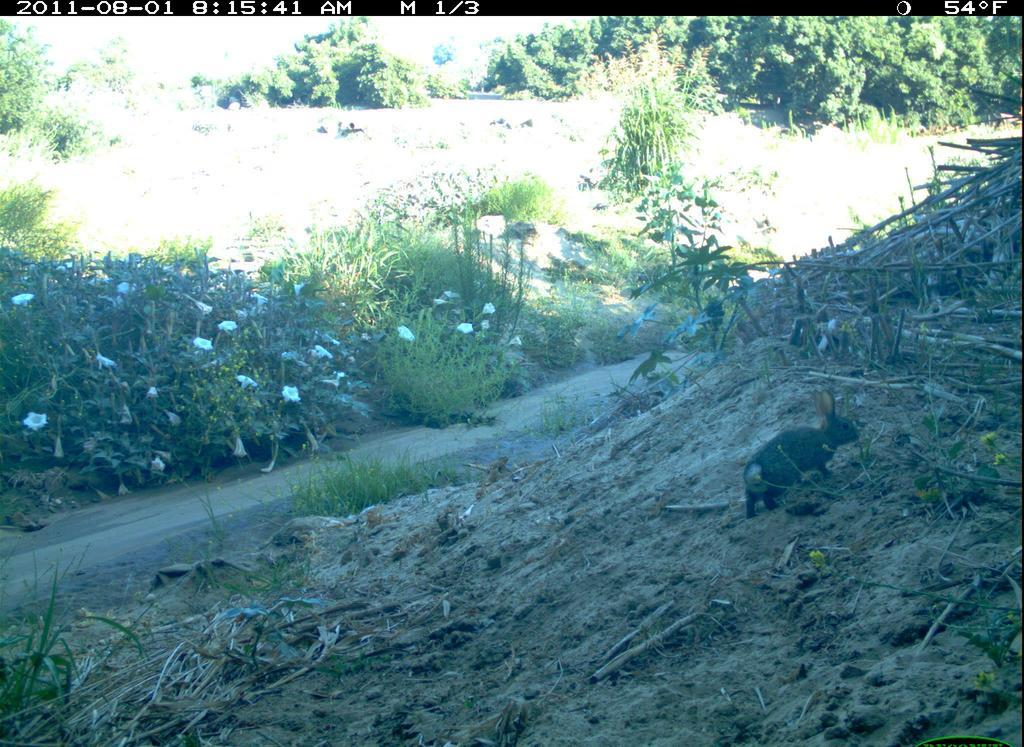rabbit: (742, 386, 863, 523)
